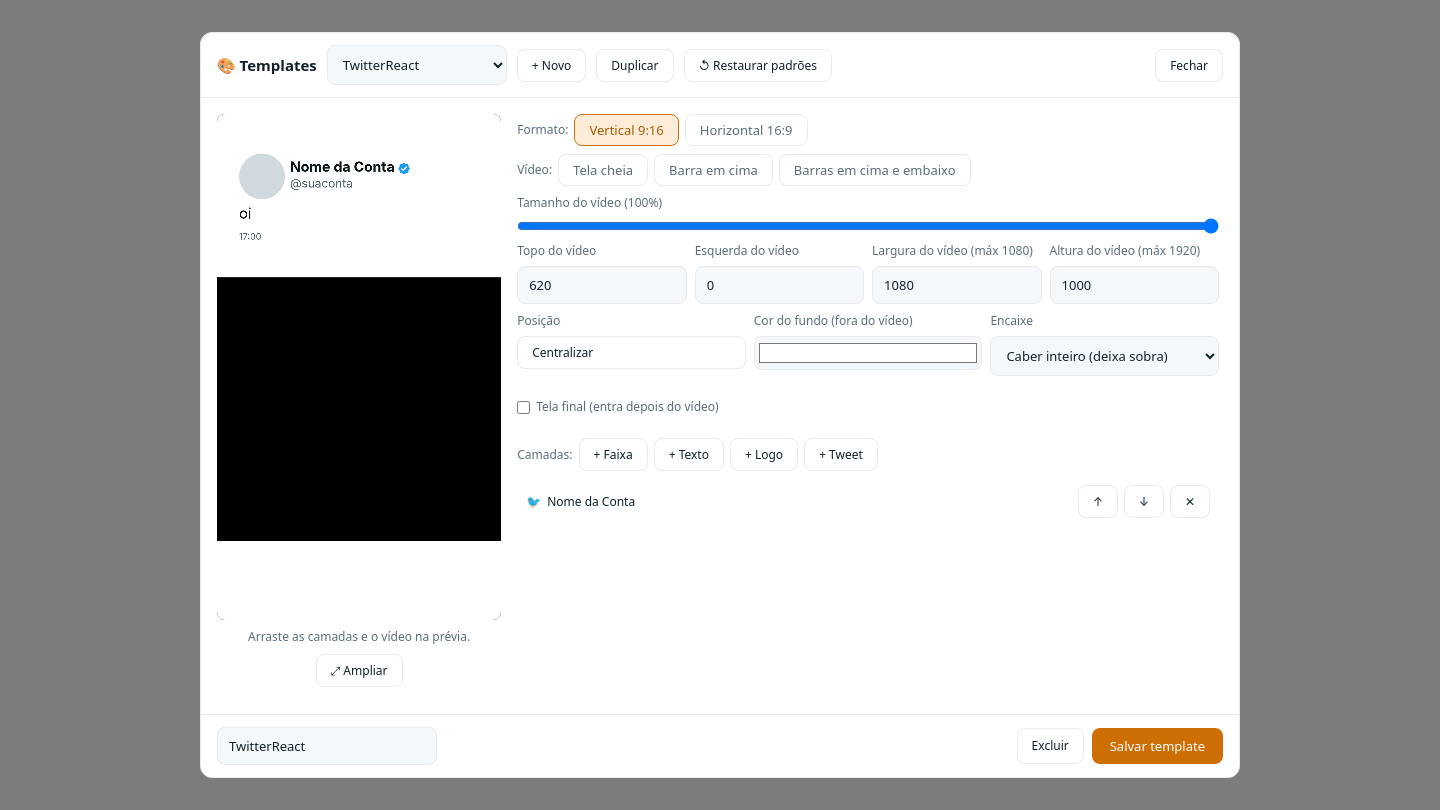
Test case: prévia ampliada › abre pelo botão e fecha com Esc
Click the button "⤢ Ampliar" at [359, 670], box [316,654,402,687]
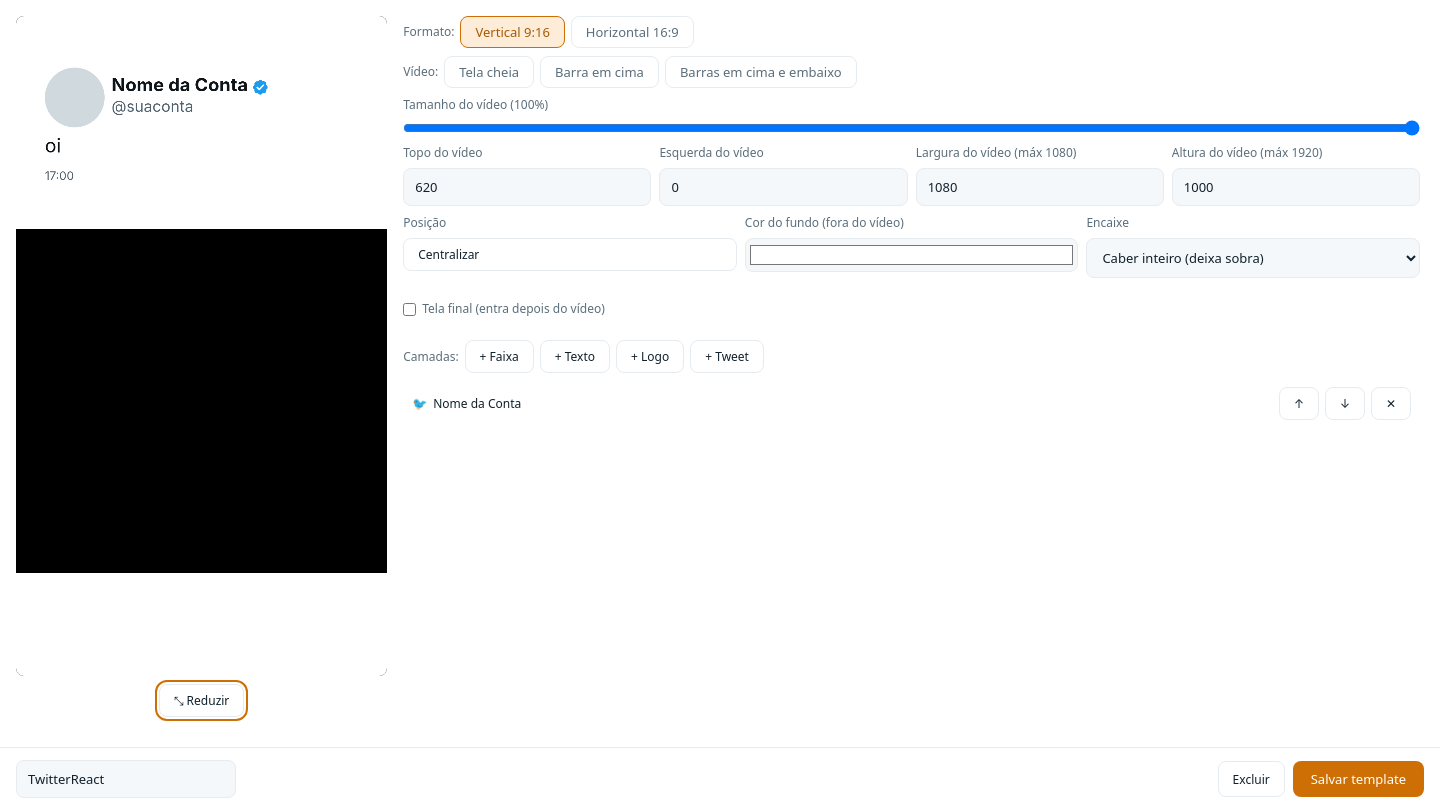
Expected: the button "⤡ Reduzir" is shown, [159,684,244,717]
Press Escape
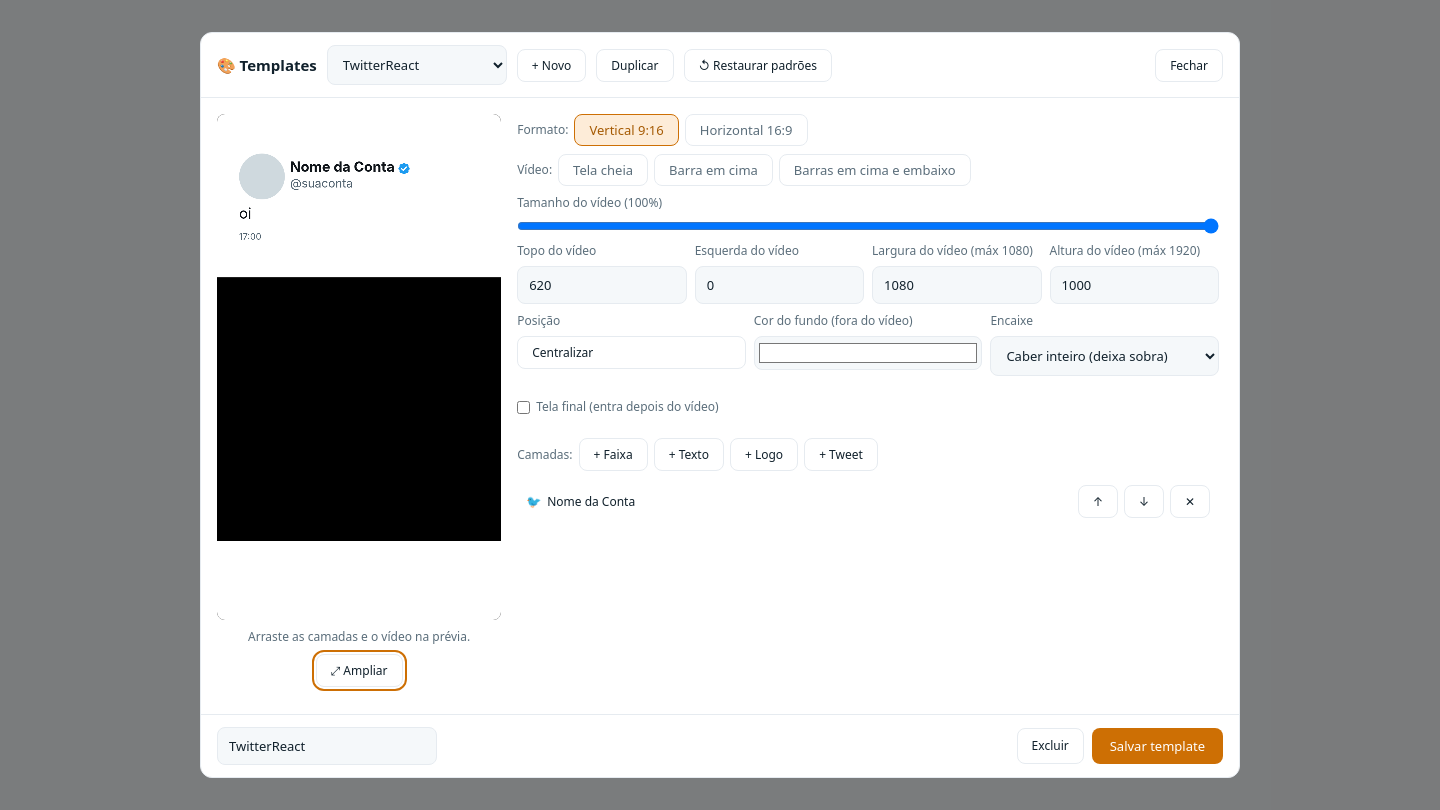
Expected: the button "⤢ Ampliar" is shown, [316,654,402,687]
